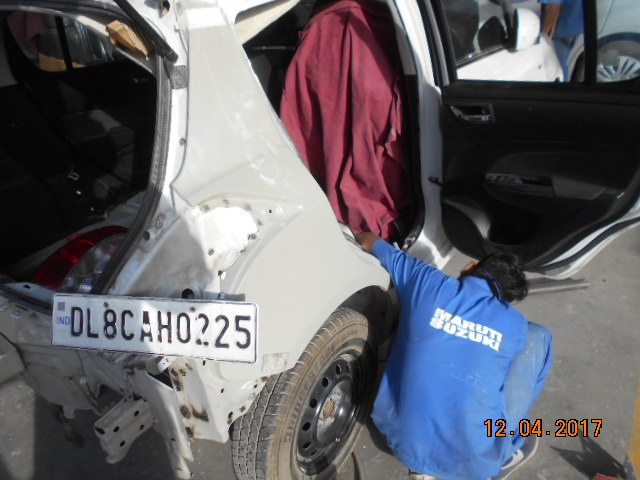Large_tear_or_damage: (0, 182, 267, 432)
